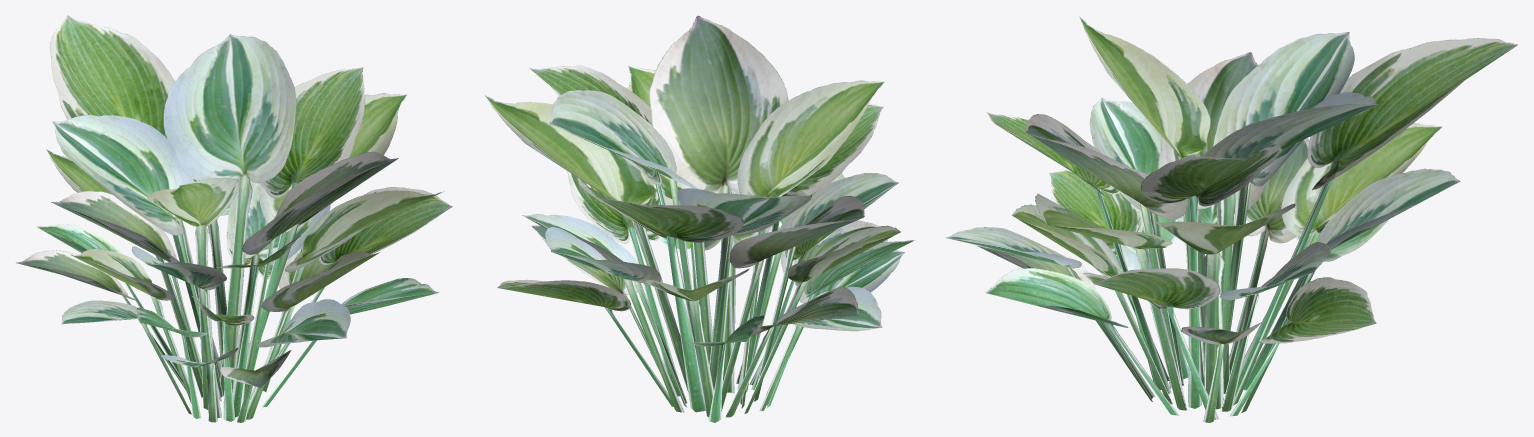
The model's file is plant_small_wg_00Z2_wild.fbx.
The picture shows the model from 3 angles, left to right: view 1: azimuth 30°, elevation 25°; view 2: azimuth 150°, elevation 25°; view 3: azimuth 270°, elevation 25°; orthographic projection. The views are drawn at different scales.
Parts seen in each view (by area): view 1: plant_small_wg_00Z2_wild; view 2: plant_small_wg_00Z2_wild; view 3: plant_small_wg_00Z2_wild.
Part boxes in pixels (x1,y1,x2,y2): plant_small_wg_00Z2_wild: (16, 15, 452, 422); plant_small_wg_00Z2_wild: (485, 15, 914, 422); plant_small_wg_00Z2_wild: (946, 16, 1517, 422).
Size of the model in its own units: 67.09 by 52.4 by 77.41.
